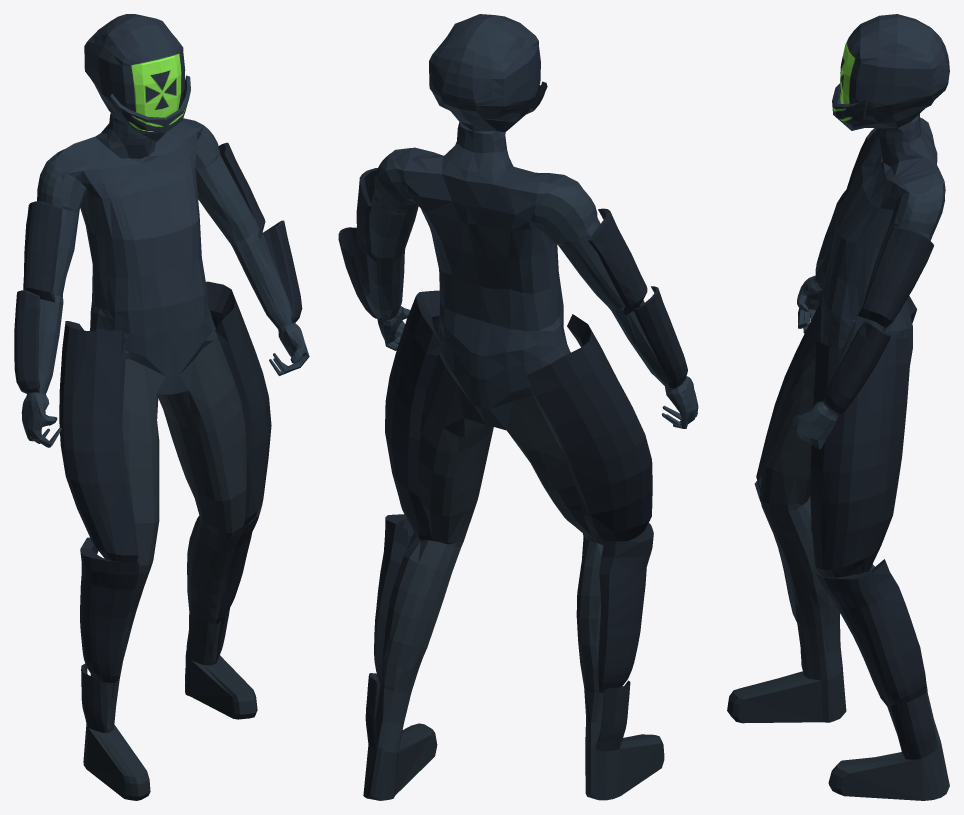
Rendered from Bastion_Stun_000017.obj.
3 renders of one model, left to right at view 1: azimuth 30°, elevation 25°; view 2: azimuth 150°, elevation 25°; view 3: azimuth 270°, elevation 25°, orthographic. The views are drawn at different scales.
Parts seen in each view (by area): view 1: Cube.002; view 2: Cube.002; view 3: Cube.002.
Part boxes in pixels (left/top/right/bottom): Cube.002: left=14, top=14, right=309, bottom=800; Cube.002: left=338, top=14, right=698, bottom=800; Cube.002: left=727, top=14, right=949, bottom=800.
Size of the model in its own units: 1.63 by 3.8 by 1.04.
